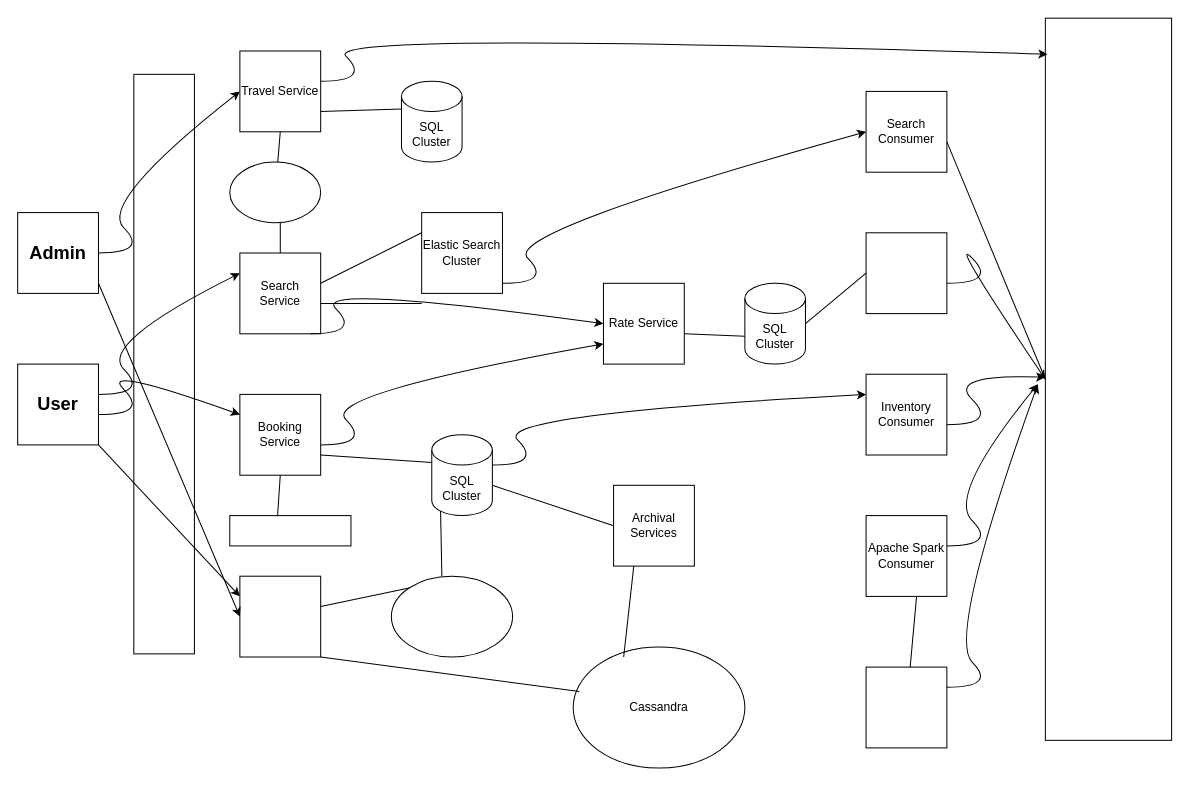
Image size: 1190x786. Some labels were removed from this diagram. The box of each missing label's shape, as (x1, y1, x2, y2) in pixels:
Booking Management Service: (239, 575, 321, 657)
CDN: (229, 161, 321, 223)
Hadoop Cluster: (865, 666, 947, 748)
Kafka: (1044, 17, 1172, 740)
Payment Service: (229, 515, 351, 546)
Rate Consumer: (865, 232, 947, 314)
Redis: (390, 575, 513, 657)
